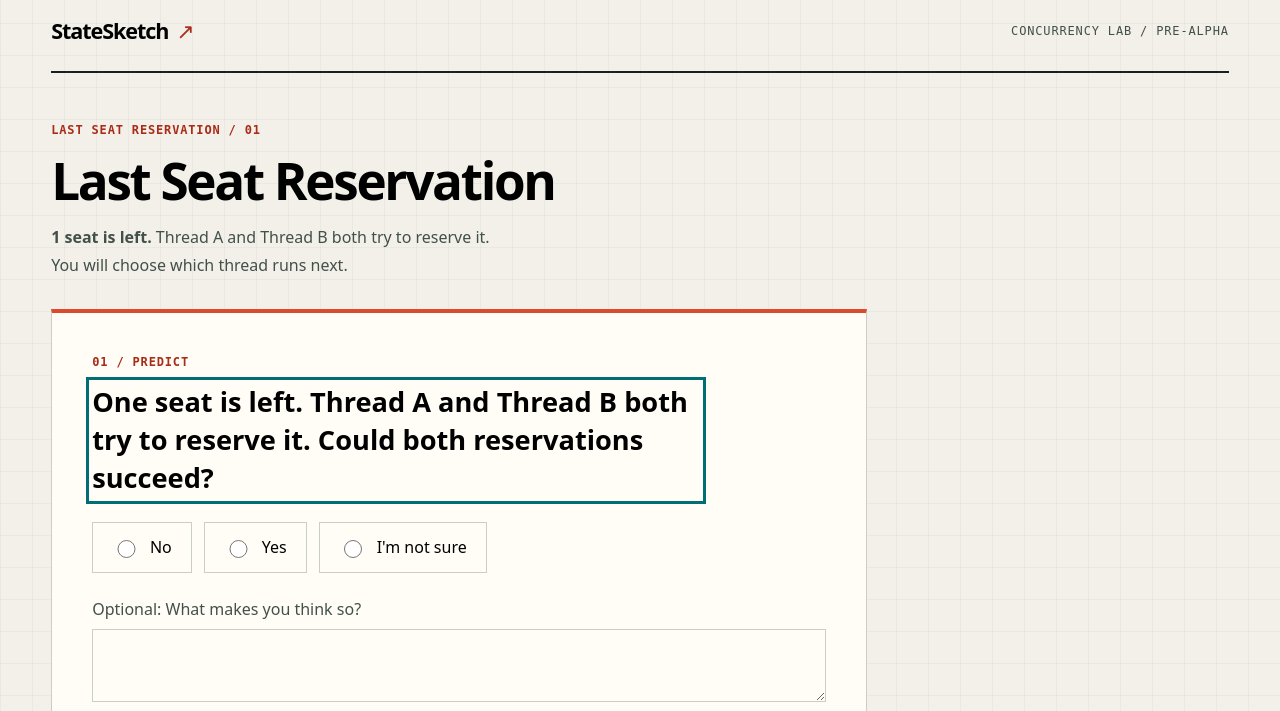
it: prediction › keeps the draft local and commits optional reasoning only on start
The width and height of the screenshot is (1280, 711).
Step 1. Click the radio button labelled "Yes" → {"x": 238, "y": 549}, box [229, 540, 248, 558]
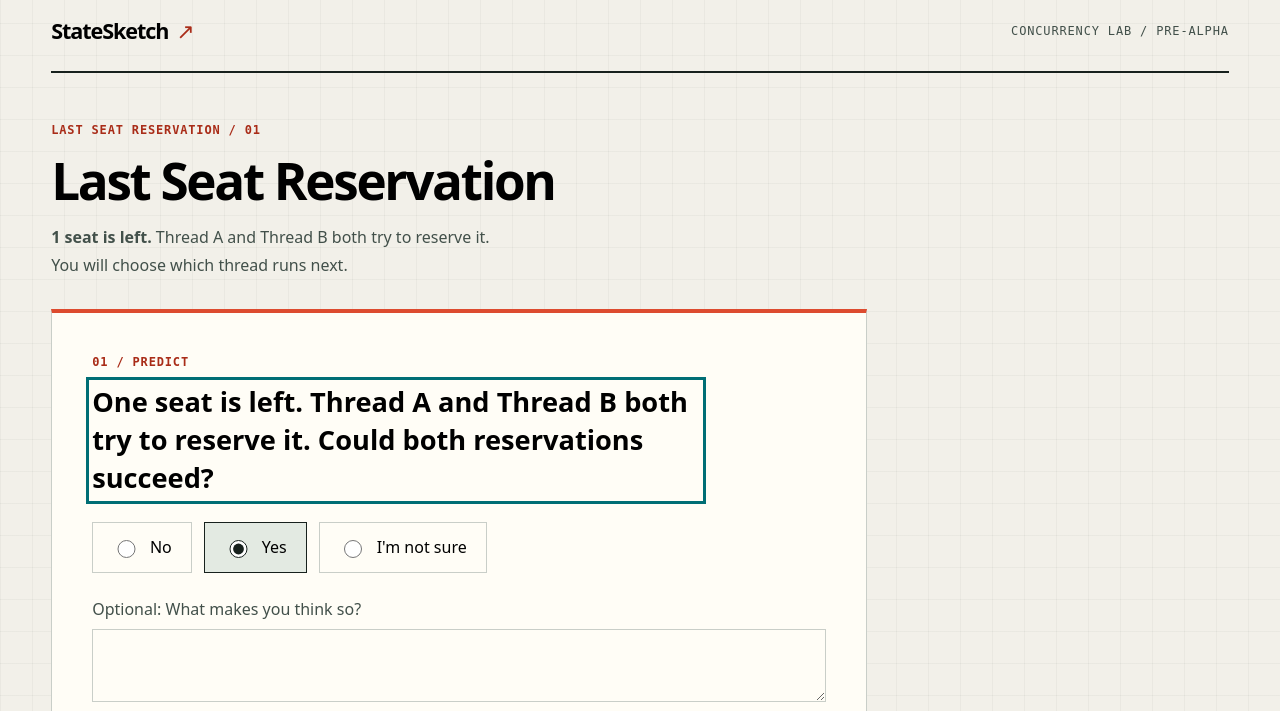
Step 2. Type "They may both see one." into the text box labelled "Optional: What makes you think so?" → {"x": 459, "y": 665}, box [92, 629, 826, 702]
(page scrolled)
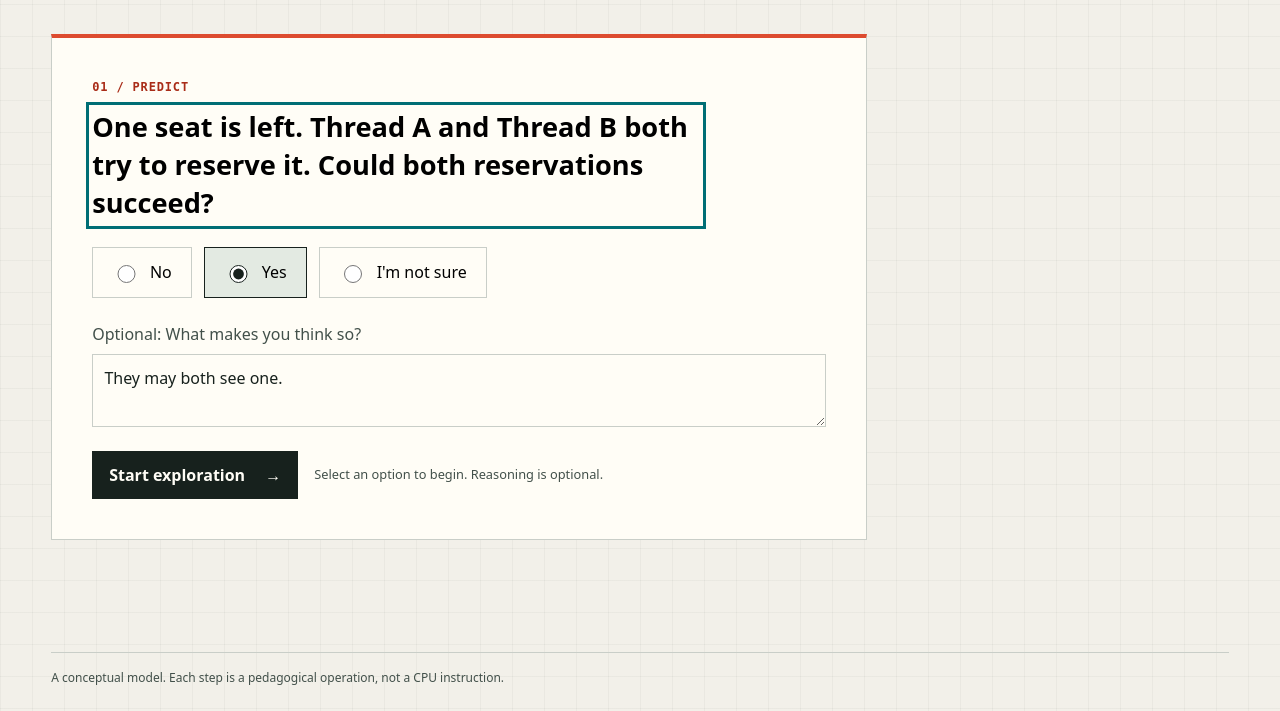
Step 3. Click the button "Start exploration →" → {"x": 195, "y": 475}, box [92, 450, 298, 499]
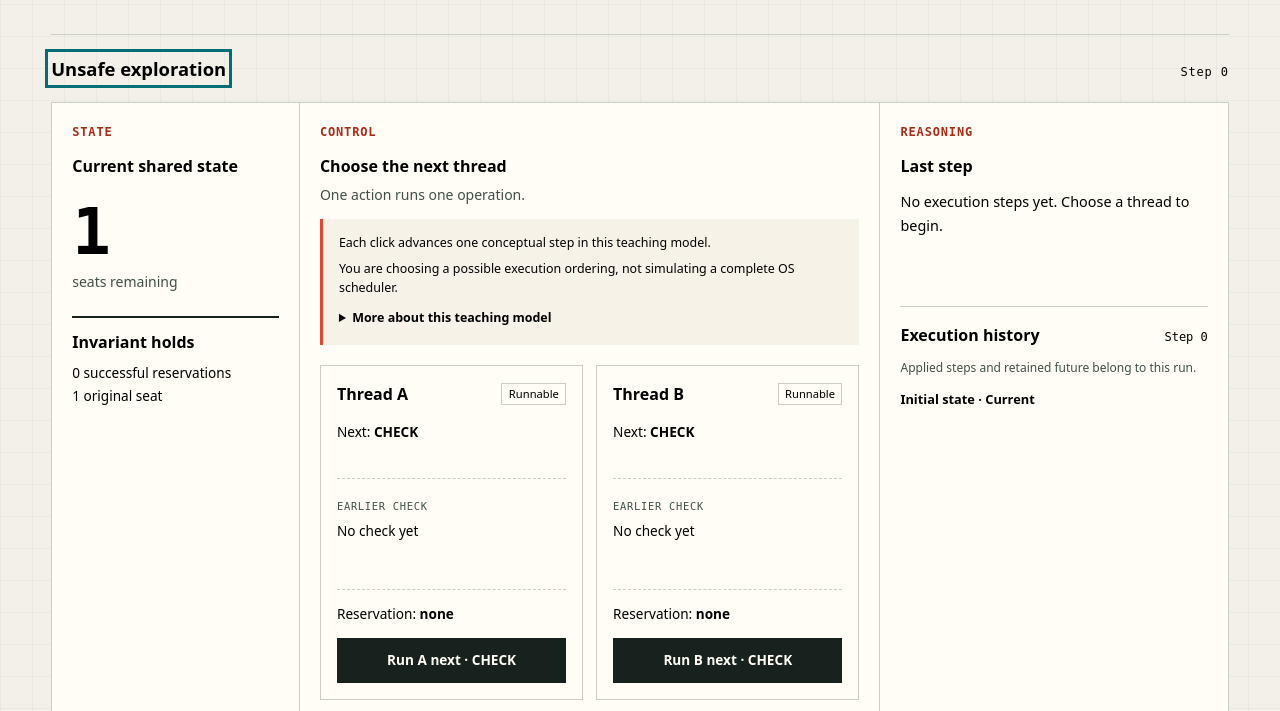
expect the radio button labelled "Your prediction" is gone: met
